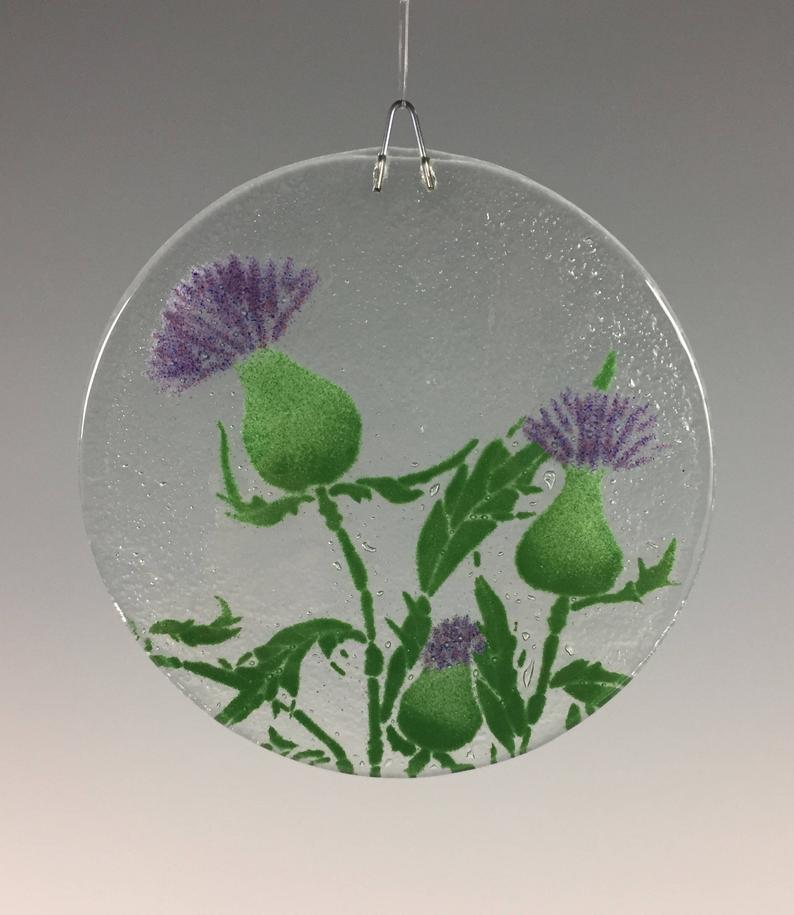thistle: (147, 264, 367, 499), (497, 395, 673, 599), (404, 617, 490, 757)
